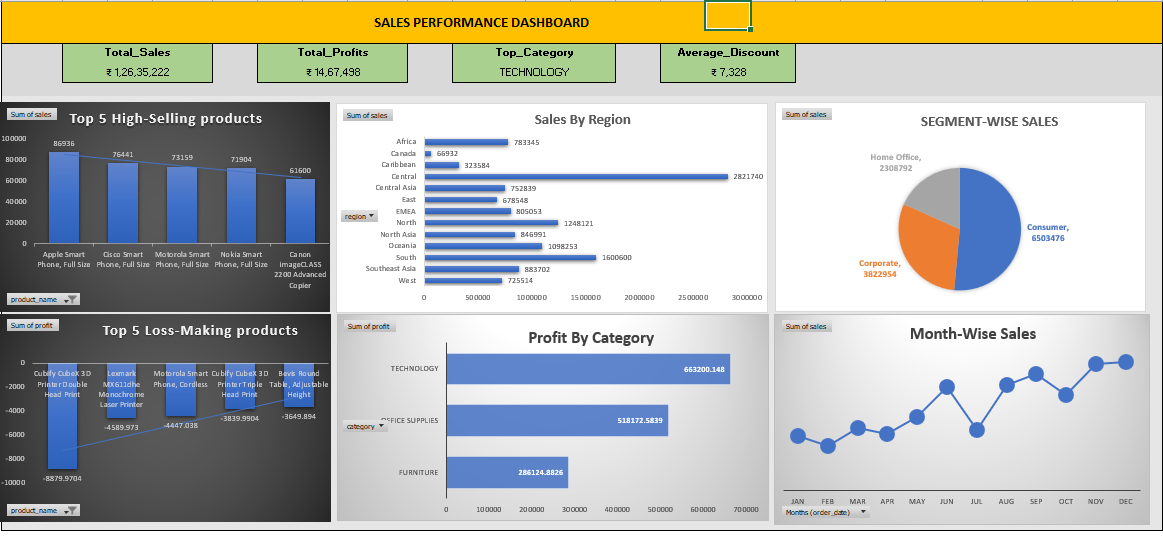

The page's visual inventory and layout, read from the dashboard file:
{"tool":"powerbi","page":{"name":"Page 1","canvas":[1280,720],"ordinal":0},"visuals":[{"type":"cardVisual","fields":{"Data":["Sales_Data.Total_Ortders"]},"box":[102.7,174.5,332.4,166.2],"z":0,"group":"g3"},{"type":"group","id":"g1","title":"Group 1","box":[102.7,440.5,333.6,166.1],"z":0},{"type":"group","id":"g2","title":"Group 2","box":[599.6,174.5,322.3,166.1],"z":1000},{"type":"cardVisual","fields":{"Data":["Sales_Data.Average_Discount"]},"box":[599.6,174.5,322.5,166.2],"z":1000,"group":"g2"},{"type":"group","id":"g3","title":"Group 3","box":[102.7,174.5,332.2,166.1],"z":2000},{"type":"cardVisual","fields":{"Data":["Sales_Data.Total_Profits"]},"box":[102.7,440.5,333.6,166.1],"z":2000,"group":"g1"},{"type":"textbox","box":[0,0,1280.3,80.3],"z":3000},{"type":"cardVisual","fields":{"Data":["Sales_Data.Total_Sales"]},"box":[589.7,440.5,332.4,166.2],"z":3000,"group":"g4"},{"type":"group","id":"g4","title":"Group 4","box":[589.7,440.5,332.2,166.1],"z":4000},{"type":"actionButton","box":[118.7,470.1,76.8,70.4],"z":4000,"group":"g1"},{"type":"actionButton","box":[616.5,460.2,74.6,74.6],"z":5000,"group":"g4"},{"type":"actionButton","box":[119.6,195.6,78.9,77.5],"z":6000,"group":"g3"},{"type":"actionButton","box":[599.6,204.1,78.9,77.5],"z":7000,"group":"g2"},{"type":"shape","box":[682.4,567.7,156.2,31],"z":8000,"group":"g4"},{"type":"shape","box":[684.1,301.3,156.3,29.6],"z":9000,"group":"g2"},{"type":"shape","box":[192.6,565.8,161,29.5],"z":10000,"group":"g1"},{"type":"shape","box":[191.4,302.7,156.3,29.6],"z":11000,"group":"g3"}]}

Visuals, with their boxes on the page's 1280x720 design canvas (x1, y1, x2, y2). These are canvas units, not pixel positions in the 1163x536 screenshot, which may show the page scaled, cropped or inside an application window:
cardVisual - Sales_Data.Total_Ortders: {"x1": 103, "y1": 174, "x2": 435, "y2": 341}
"Group 1" group: {"x1": 103, "y1": 440, "x2": 436, "y2": 607}
"Group 2" group: {"x1": 600, "y1": 174, "x2": 922, "y2": 341}
cardVisual - Sales_Data.Average_Discount: {"x1": 600, "y1": 174, "x2": 922, "y2": 341}
"Group 3" group: {"x1": 103, "y1": 174, "x2": 435, "y2": 341}
cardVisual - Sales_Data.Total_Profits: {"x1": 103, "y1": 440, "x2": 436, "y2": 607}
textbox: {"x1": 0, "y1": 0, "x2": 1280, "y2": 80}
cardVisual - Sales_Data.Total_Sales: {"x1": 590, "y1": 440, "x2": 922, "y2": 607}
"Group 4" group: {"x1": 590, "y1": 440, "x2": 922, "y2": 607}
actionButton: {"x1": 119, "y1": 470, "x2": 196, "y2": 540}
actionButton: {"x1": 616, "y1": 460, "x2": 691, "y2": 535}
actionButton: {"x1": 120, "y1": 196, "x2": 198, "y2": 273}
actionButton: {"x1": 600, "y1": 204, "x2": 678, "y2": 282}
shape: {"x1": 682, "y1": 568, "x2": 839, "y2": 599}
shape: {"x1": 684, "y1": 301, "x2": 840, "y2": 331}
shape: {"x1": 193, "y1": 566, "x2": 354, "y2": 595}
shape: {"x1": 191, "y1": 303, "x2": 348, "y2": 332}
